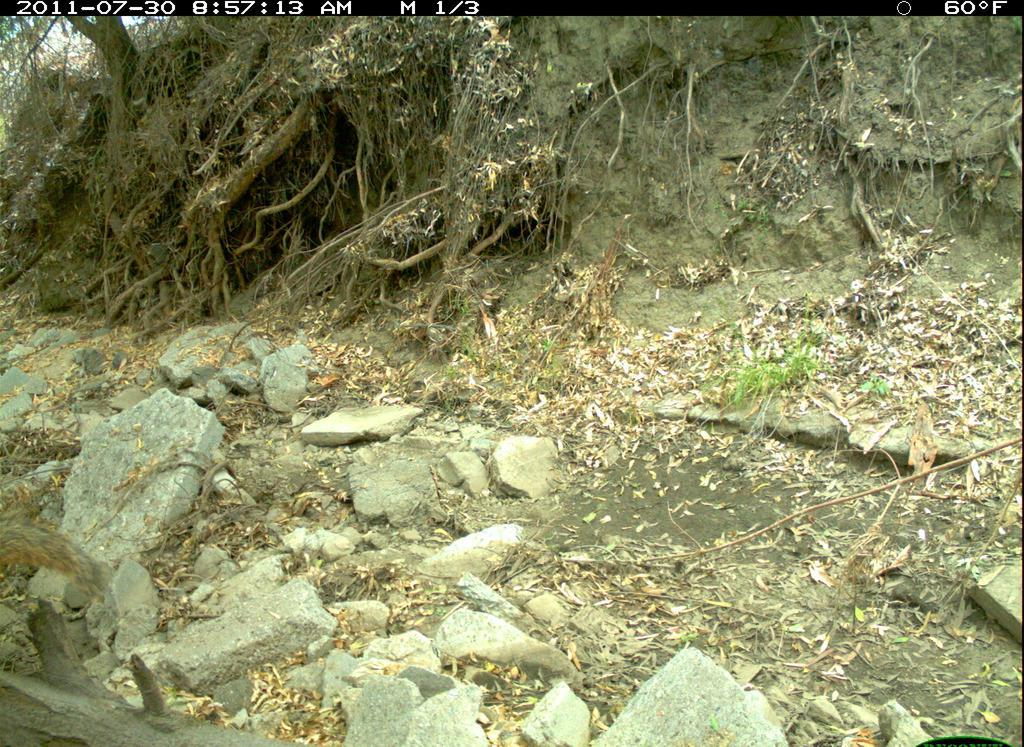squirrel: (1, 514, 114, 625)
